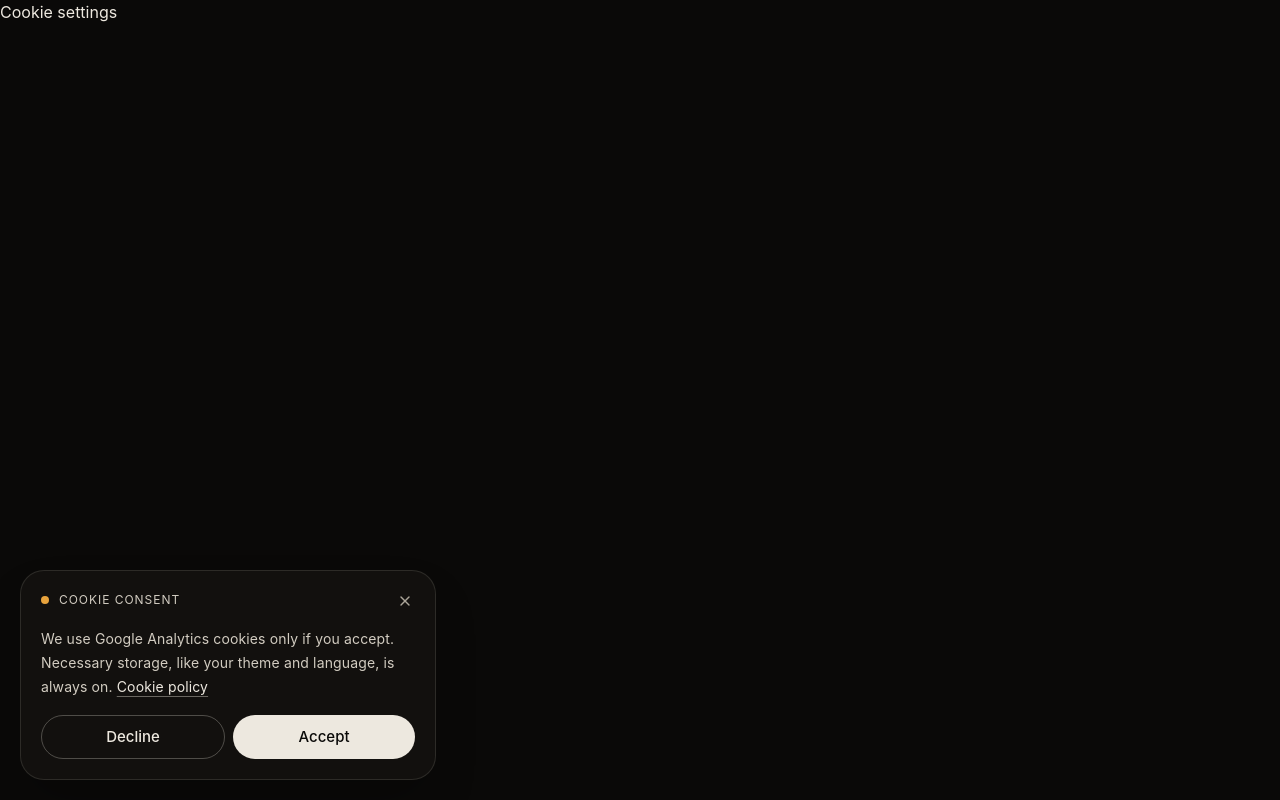
Test case: cookie consent UI › settings dialog › turning the switch on and saving stores a yes and closes everything
Click the button "Cookie settings" at (59, 12), box [0,0,117,24]
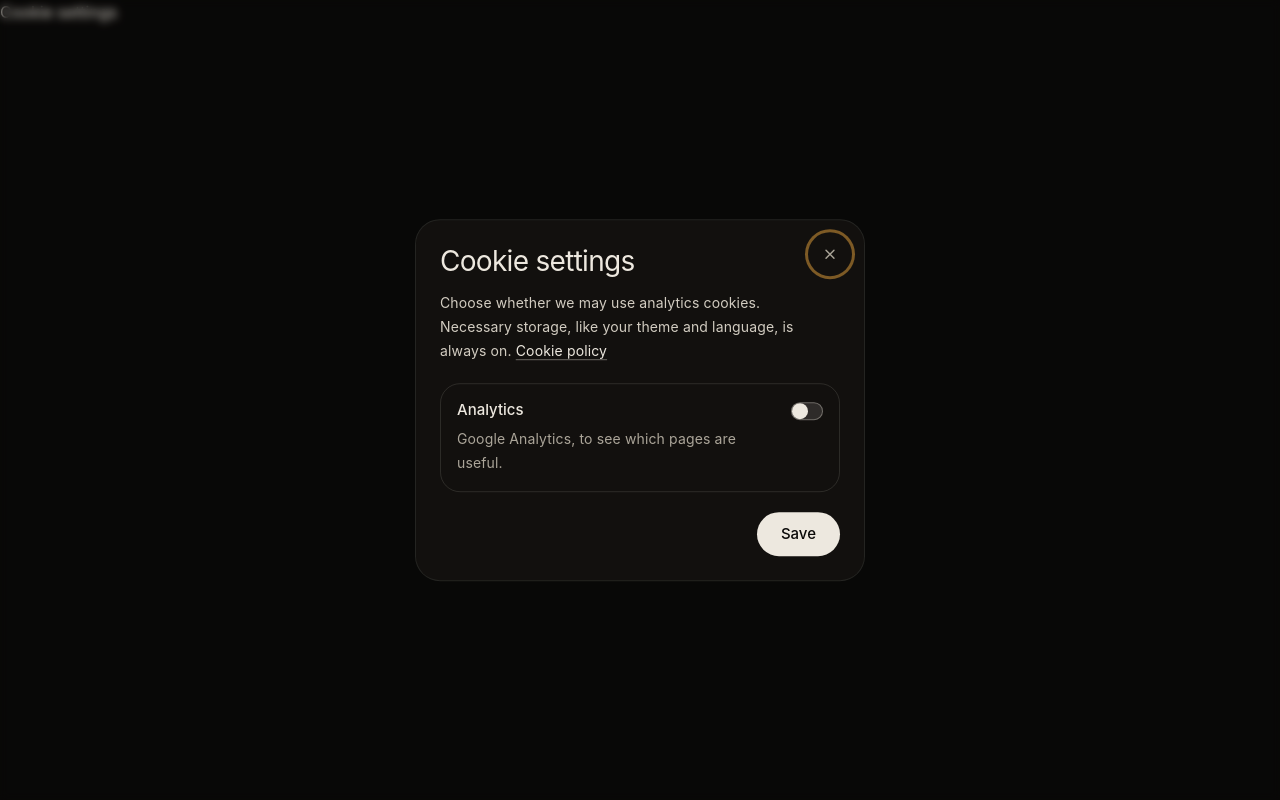
Click the switch named "Analytics" at (807, 411), box [791,402,823,421]
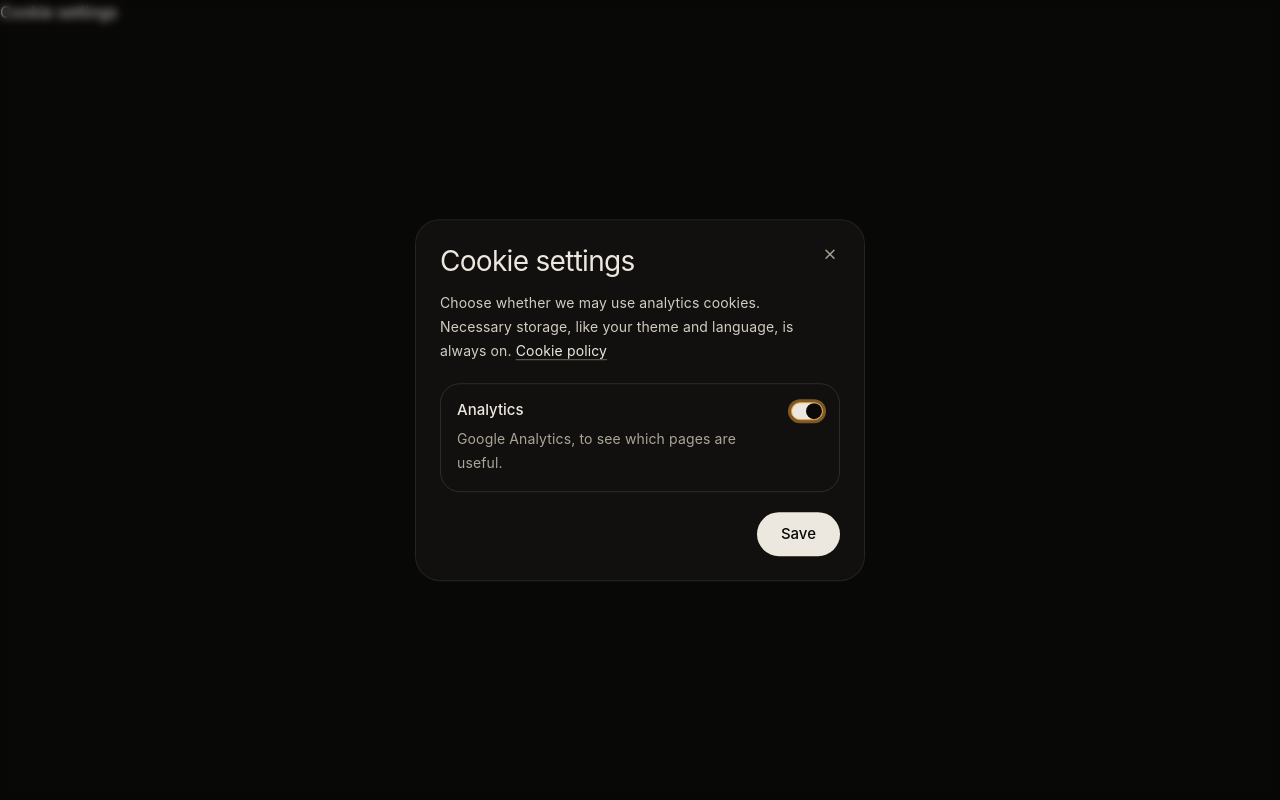
Expected: the switch named "Analytics" is checked, [791,402,823,421]
Click the button "Save" at (798, 534), box [757,512,840,556]
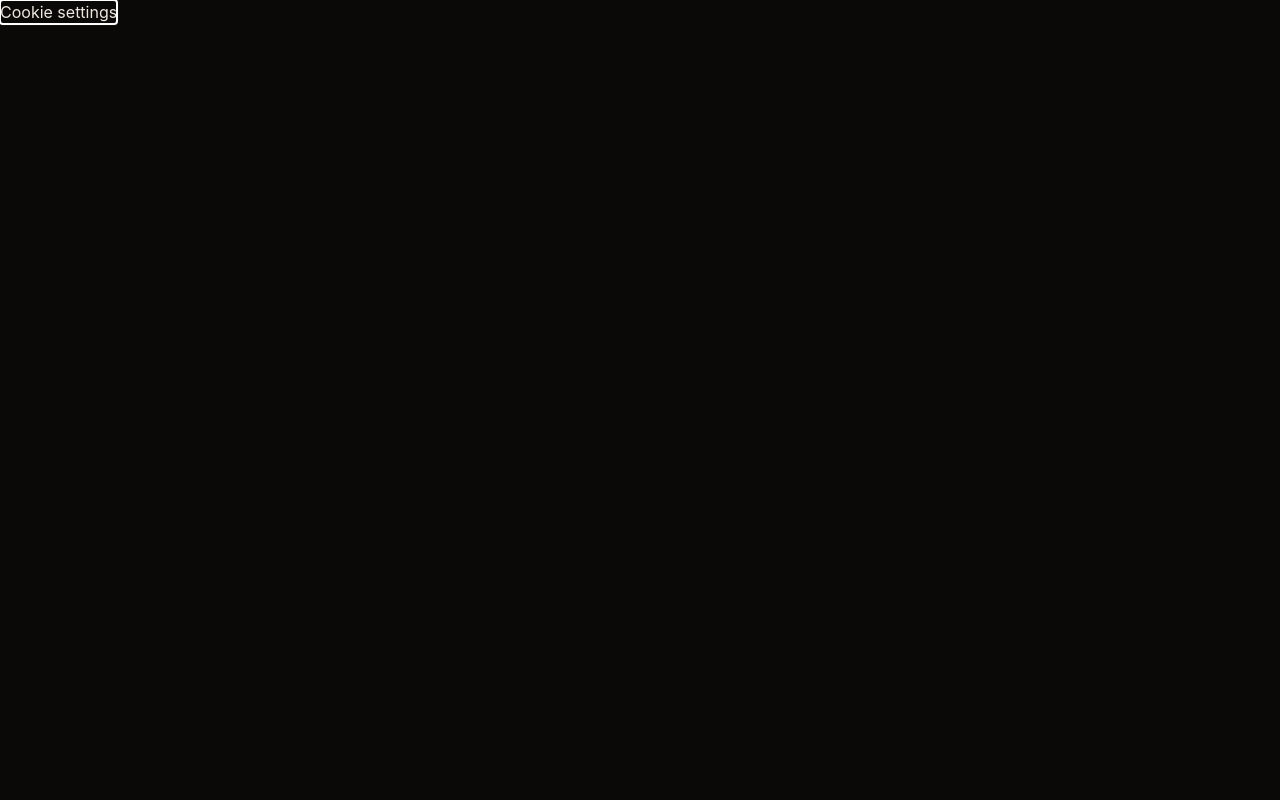
Expected: the element "Cookie consent" is not shown
Expected: the dialog is gone
